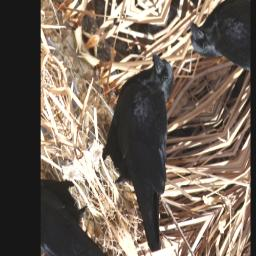Crow: (76, 45, 237, 256)
